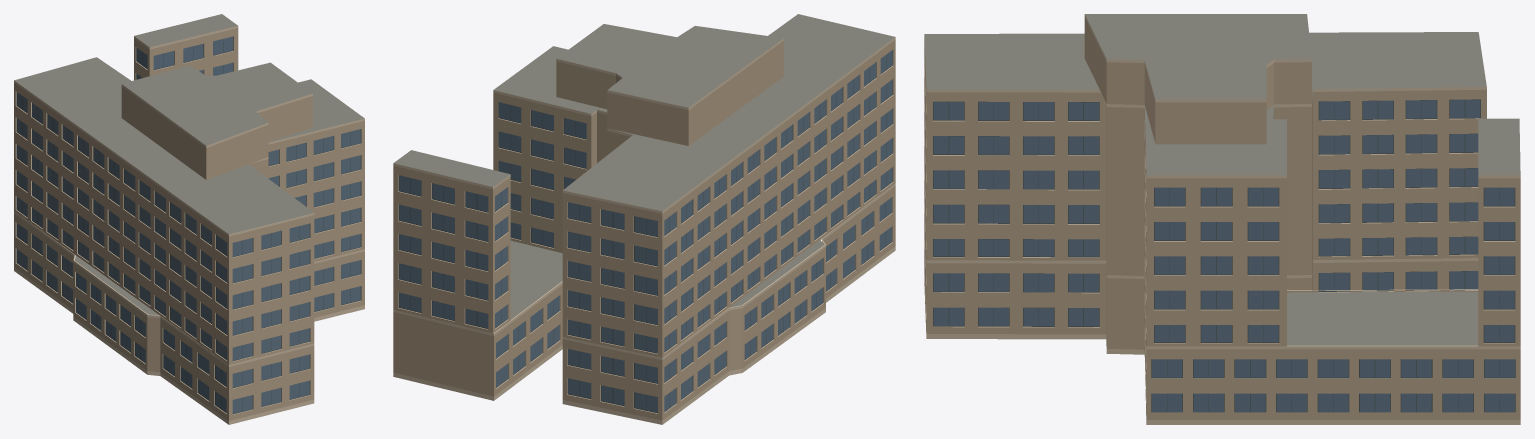
File: dc-au-mcdowell-hall.detail.glb
3 views of the same model, side by side, from view 1: azimuth 30°, elevation 25°; view 2: azimuth 150°, elevation 25°; view 3: azimuth 270°, elevation 25° (orthographic). The views are drawn at different scales.
Parts seen in each view (by area): view 1: McDowell Hall; view 2: McDowell Hall; view 3: McDowell Hall.
Boxes of the visible parts, x1,y1,x2,y2 form: McDowell Hall: (14,14,364,424); McDowell Hall: (393,14,895,424); McDowell Hall: (924,14,1520,424).
Size of the model in its own units: 34.54 by 32.2 by 59.06.
